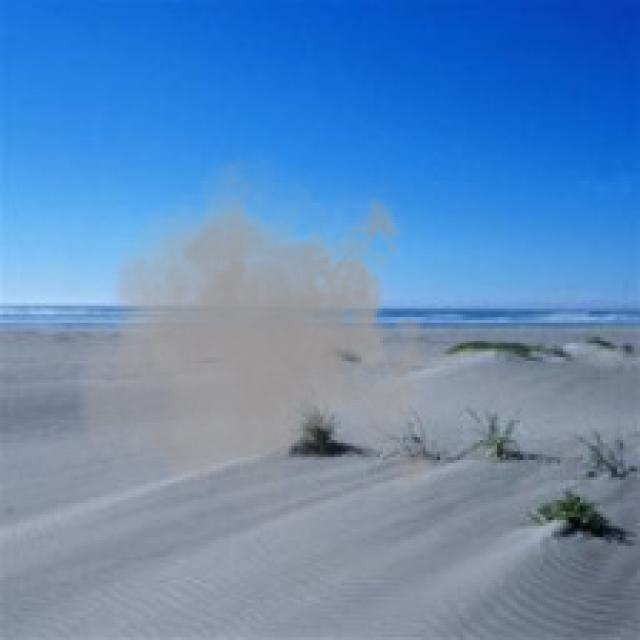smoke: (71, 137, 446, 552)
